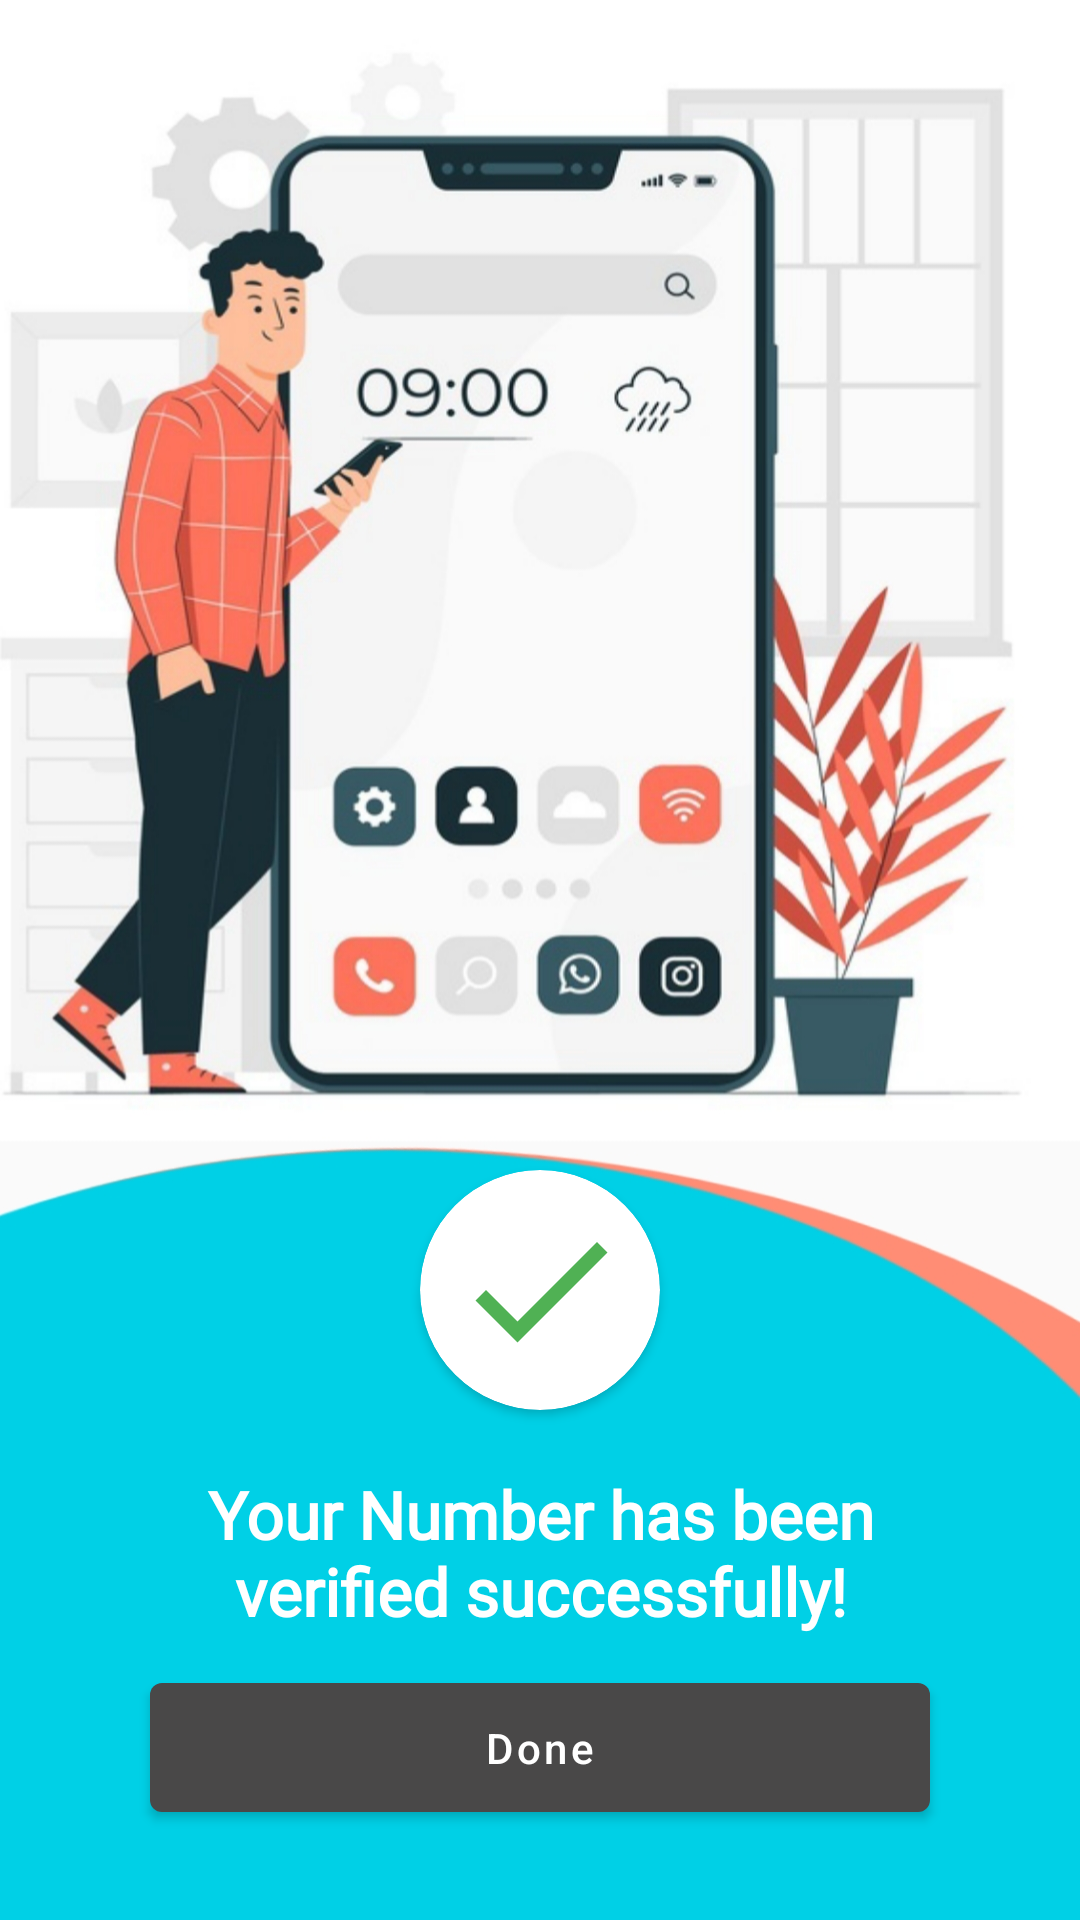

Screen size 1080 x 1920. Icon name, then its center in pixels as (x=x, y=y):
tick: (x=541, y=1292)
